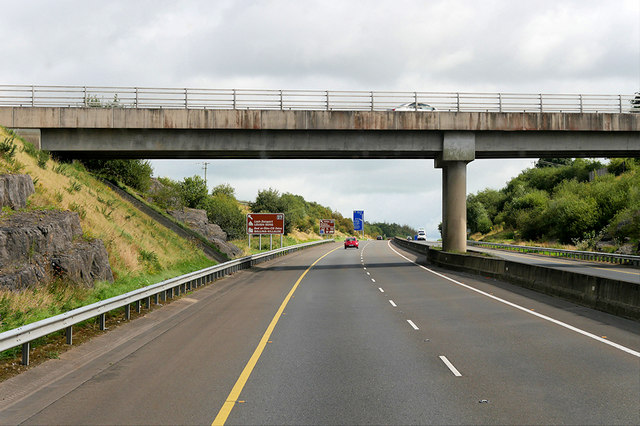bridge: (1, 83, 640, 162)
